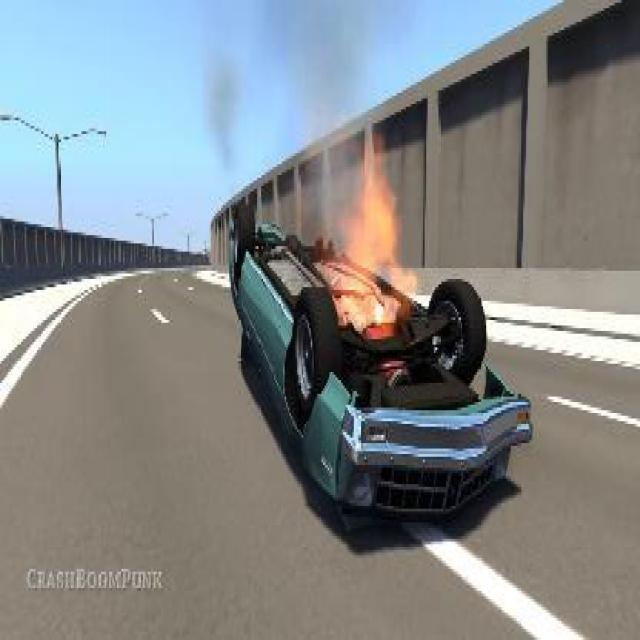accident: (219, 183, 543, 536)
